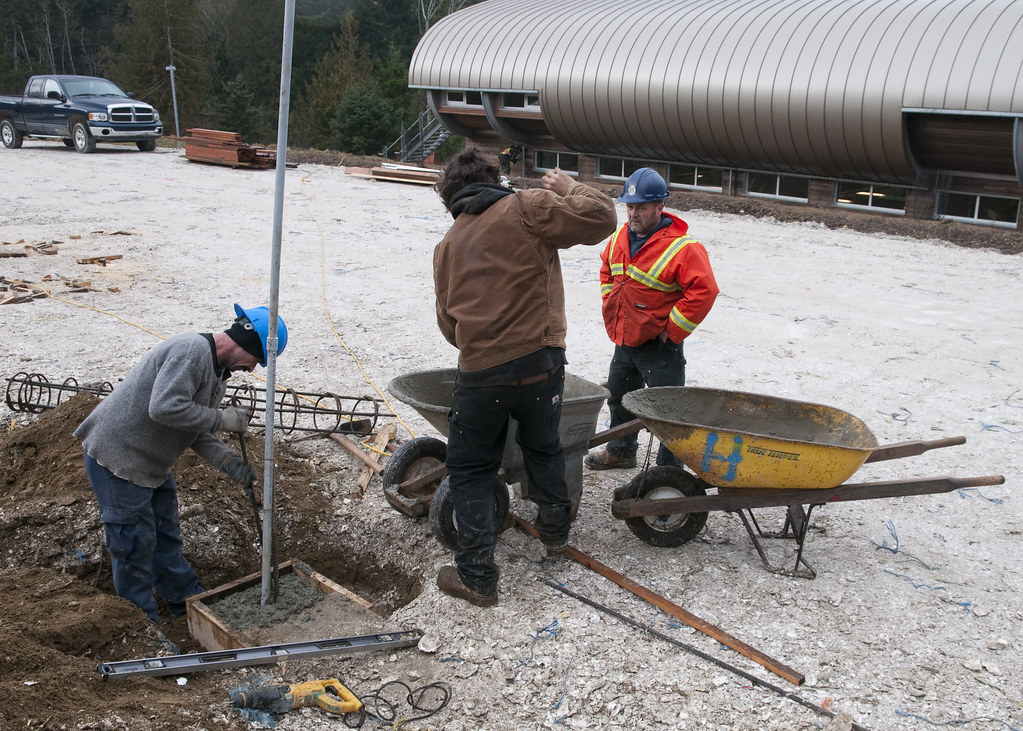Hard Hat: (214, 305, 288, 376), (618, 168, 672, 235)
Person: (423, 152, 581, 608), (93, 304, 289, 632), (600, 169, 712, 469)
Vest: (599, 204, 720, 343)
